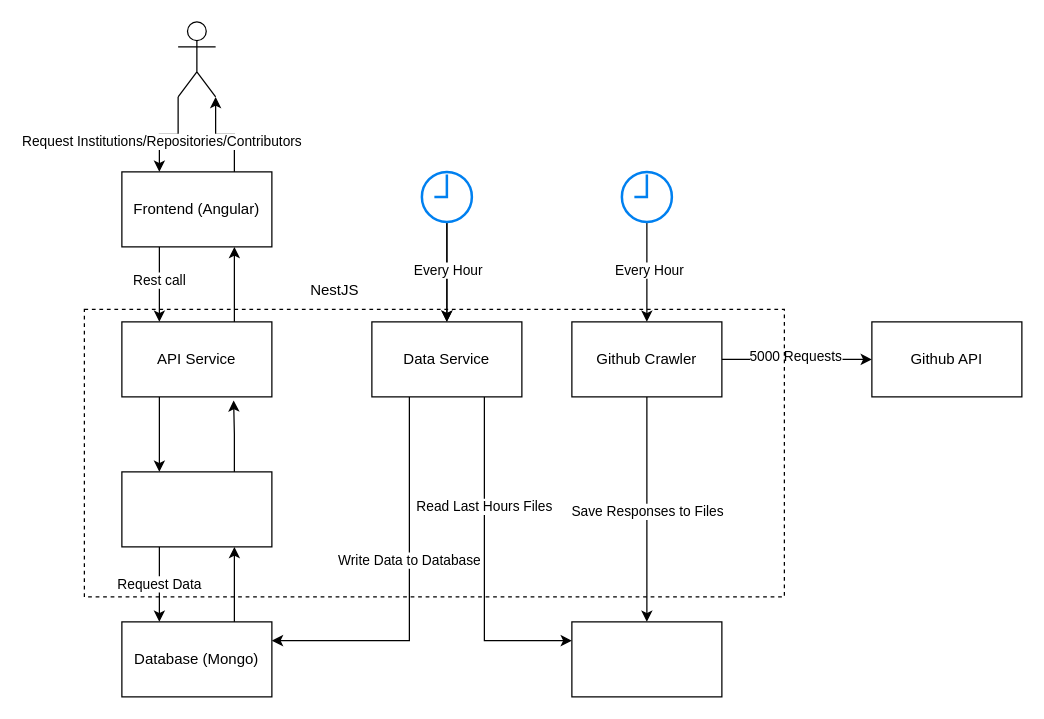
Image size: 1044x719. Some labels were removed from this diagram. Each missing label, with the centre of its shape:
DB Service: the point at 196,509
Disk: the point at 646,659
User: the point at 196,59
